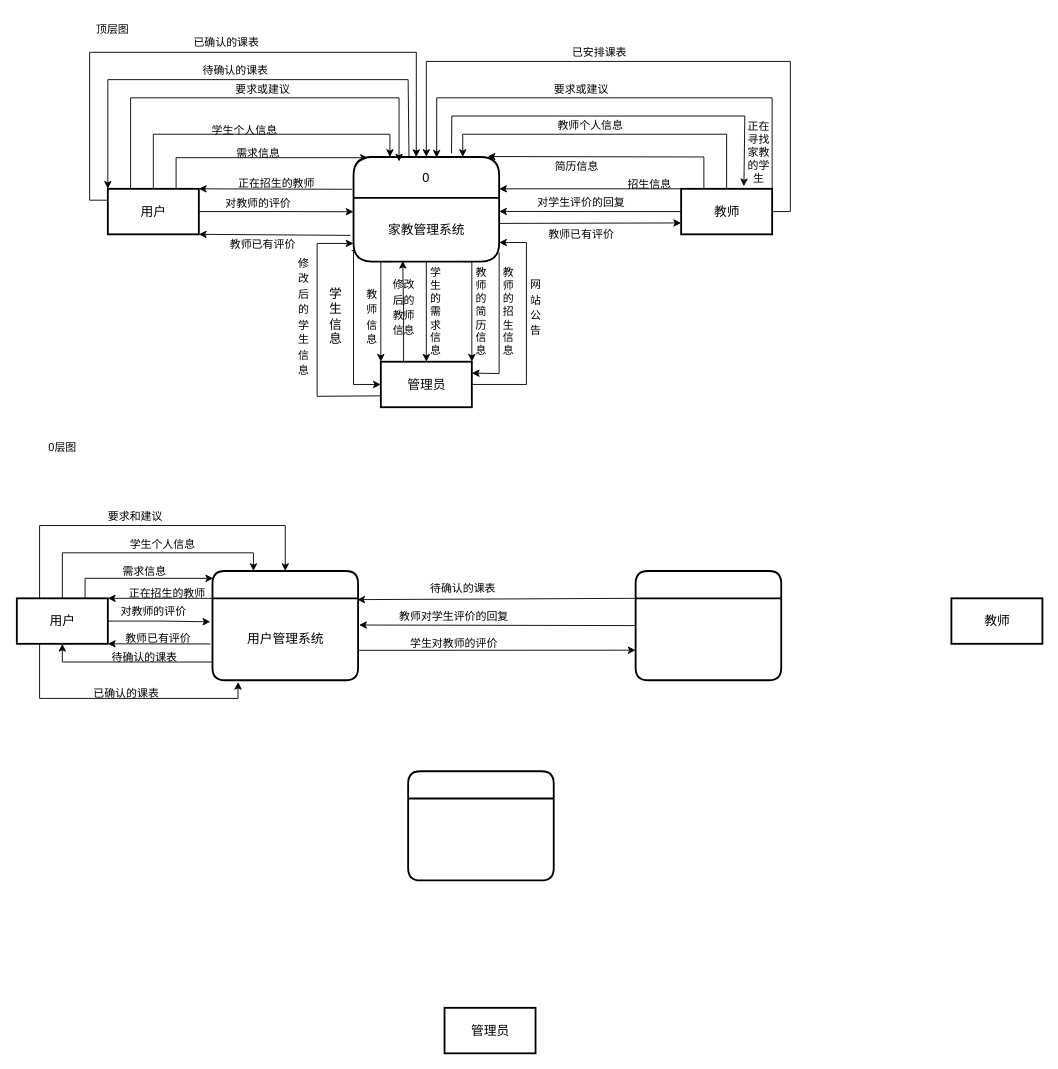
The diagram is 1058 pixels wide and 1069 high, and some of its shapes have lost their labels. Each missing label, with the centre of its shape:
"教师管理系统" belongs at (708,625).
"管理员管理系统" belongs at (480,825).
